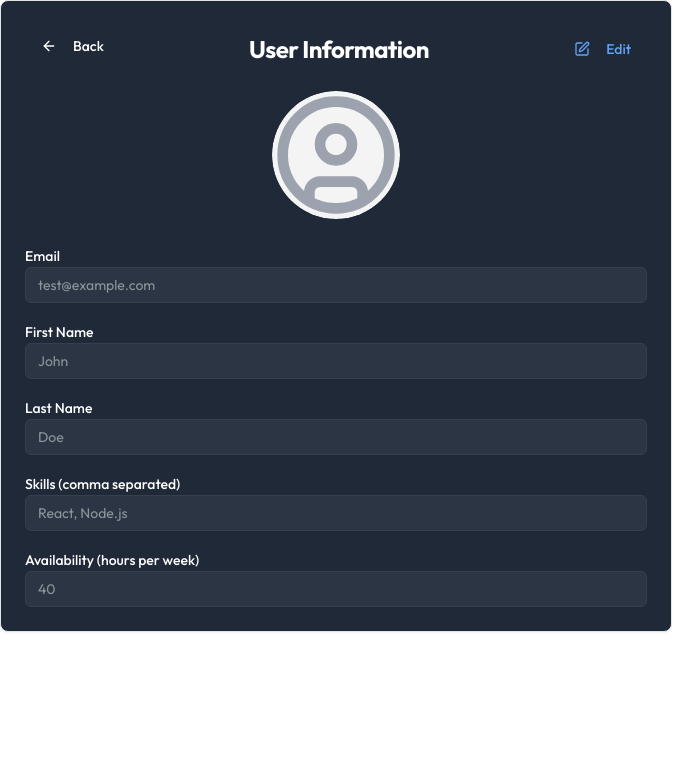
Test: UserInfo Component › shows error message on duplicate email
Click the button "Edit" at (602, 49), box [558,31,647,67]
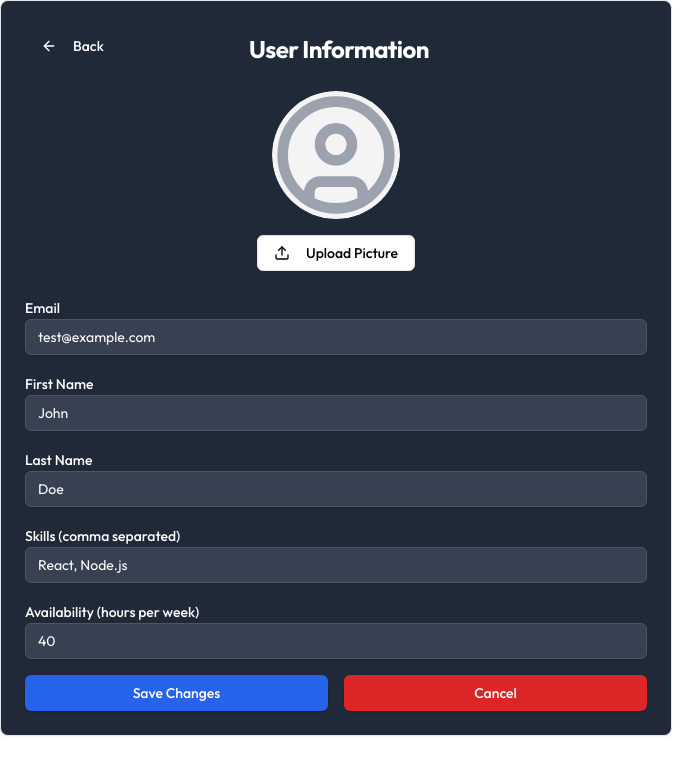
Replace the text in the field labelled "Email" with "existing@example.com" at (336, 337), box [25,319,647,355]
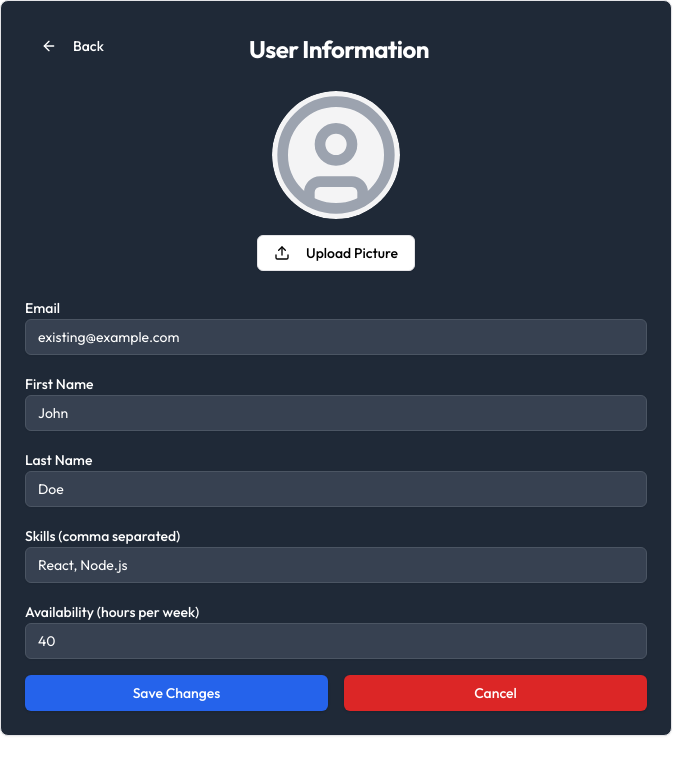
Click the button "Save Changes" at (176, 693), box [25,675,328,711]
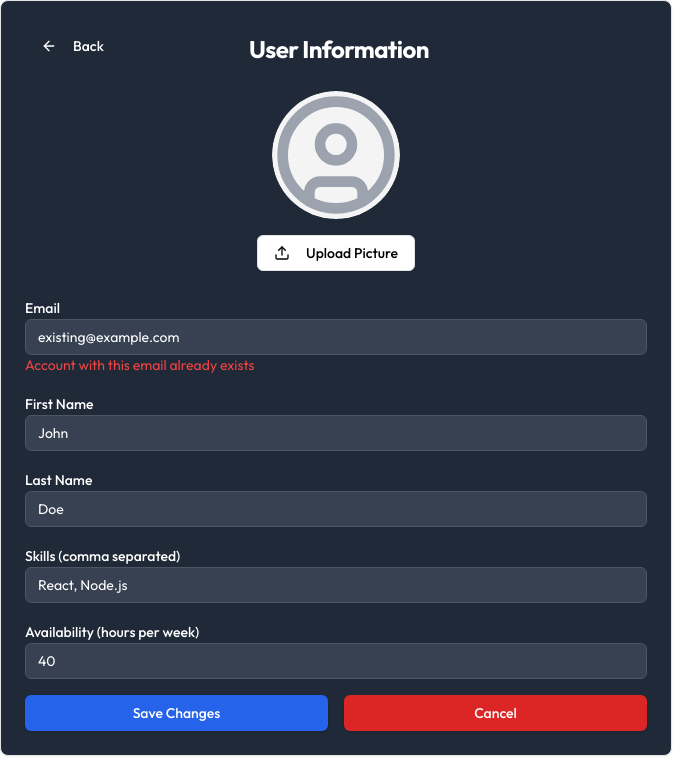
Now the text "Account with this email already exists" is shown, box [25,356,254,374]
